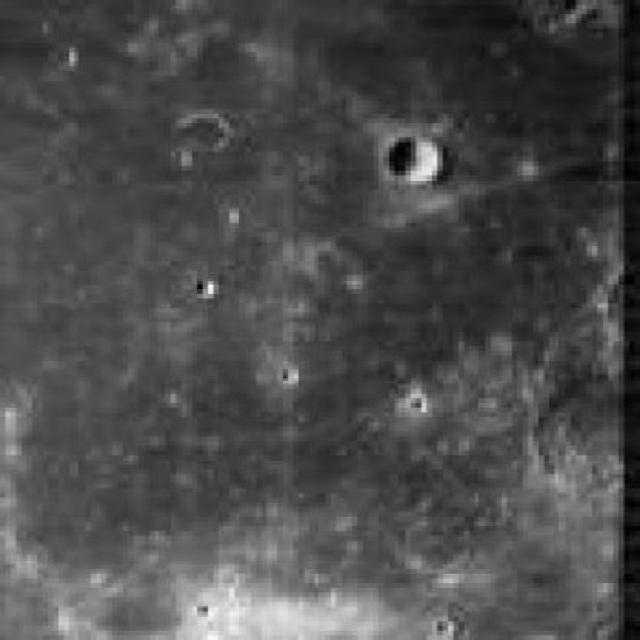crater: (386, 140, 443, 189), (191, 278, 218, 300)
